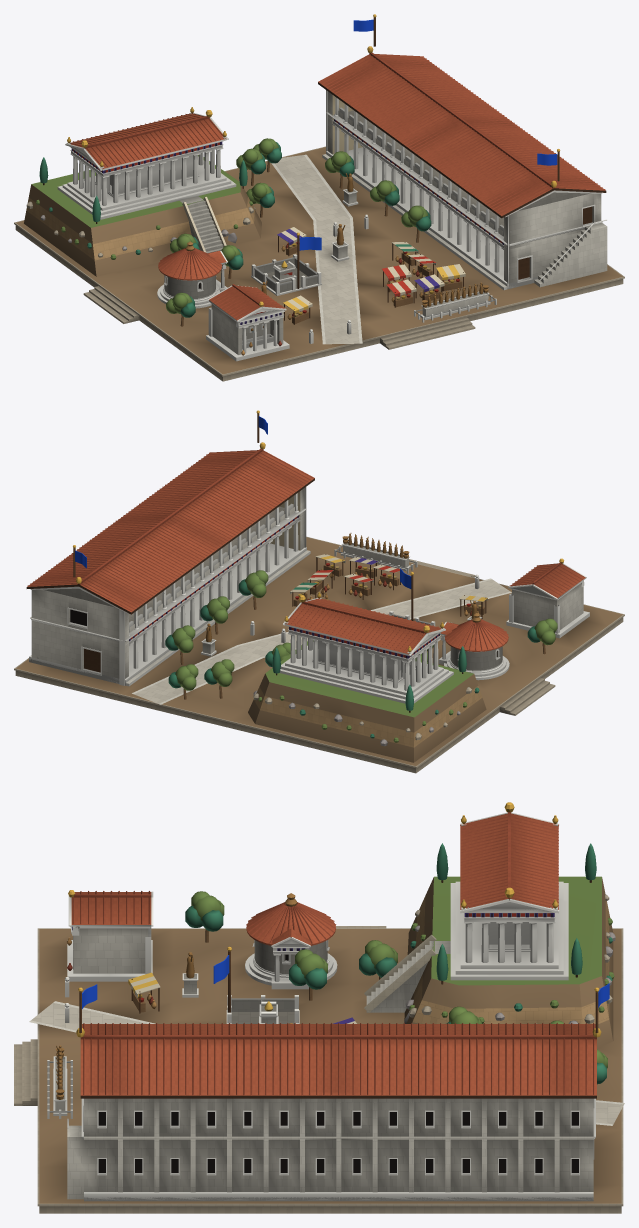
File: lm_agora.glb
3 views of the same model, one above another, from view 1: azimuth 30°, elevation 25°; view 2: azimuth 150°, elevation 25°; view 3: azimuth 270°, elevation 25° (orthographic). The views are drawn at different scales.
Visible parts, largest first — view 1: lm_agora; view 2: lm_agora; view 3: lm_agora.
Boxes of the visible parts, left/top/right/bottom form: lm_agora: left=14, top=14, right=624, bottom=381; lm_agora: left=14, top=410, right=624, bottom=773; lm_agora: left=14, top=802, right=624, bottom=1213.
Size of the model in its own units: 2.42 by 0.756 by 2.18.
1 material, 1 textured.
